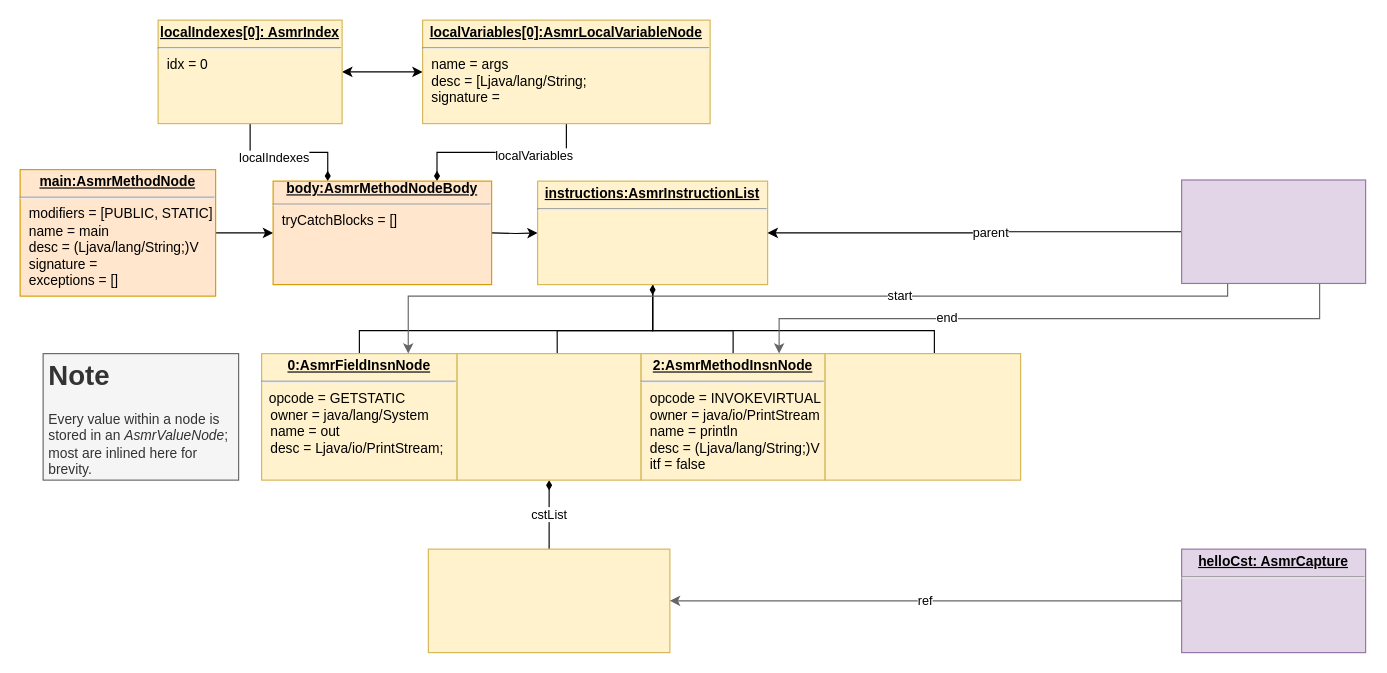
Image size: 1387x673. Some labels were removed from this diagram. The shapes that lost their labels are listed below. From the top down, each one's centre as x and y in pixels, then its label:
point 1273,231: printInsns: AsmrListCapture includeStart = false includeEnd = true
point 548,416: 1:AsmrLdcInsnNode opcode = LDC
point 922,416: 3: AsmrNoOperandInsnNode opcode = RETURN
point 548,600: cstList[0]:AsmrValueNode<String> value = Hello, World!
